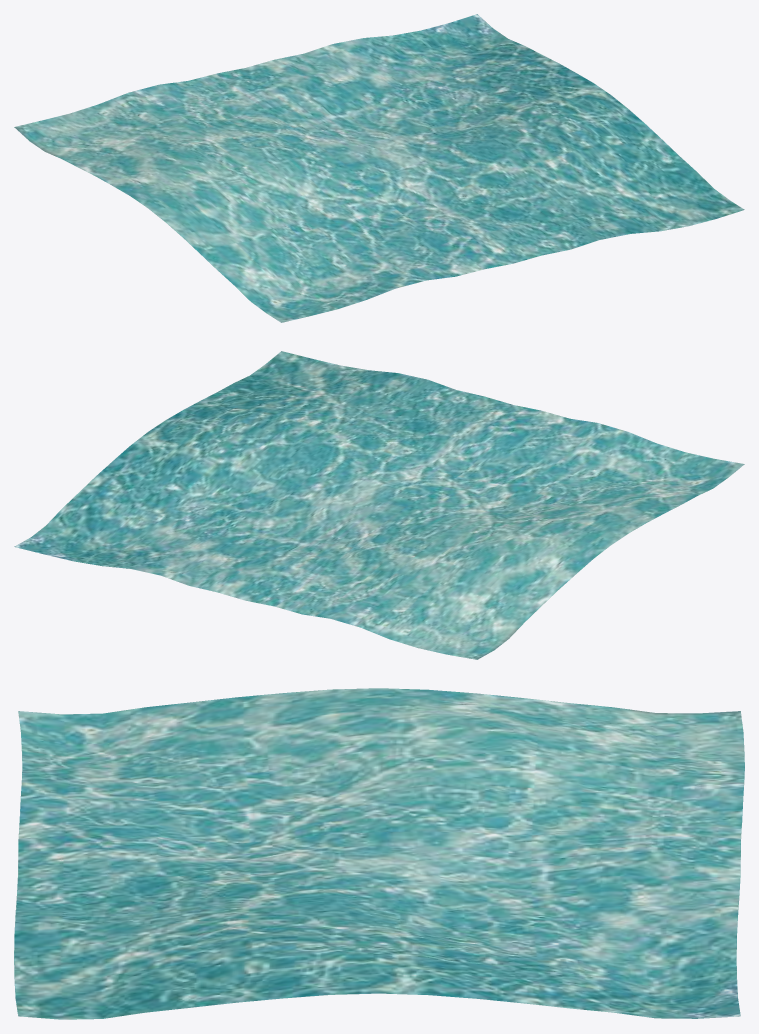
File: water_000007.obj
3 views of the same model, one above another, from view 1: azimuth 30°, elevation 25°; view 2: azimuth 150°, elevation 25°; view 3: azimuth 270°, elevation 25° (orthographic). The views are drawn at different scales.
Parts seen in each view (by area): view 1: Plan.003_Plan.001; view 2: Plan.003_Plan.001; view 3: Plan.003_Plan.001.
Part boxes in pixels (x1,y1,x2,y2): Plan.003_Plan.001: (14, 14, 744, 322); Plan.003_Plan.001: (14, 351, 744, 659); Plan.003_Plan.001: (14, 688, 744, 1019).
Bounding box in the file's own units: 60514 × 3236 × 61033.
Materials: 1 (1 with a texture image).
